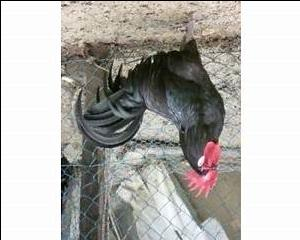hen: (74, 10, 226, 198)
